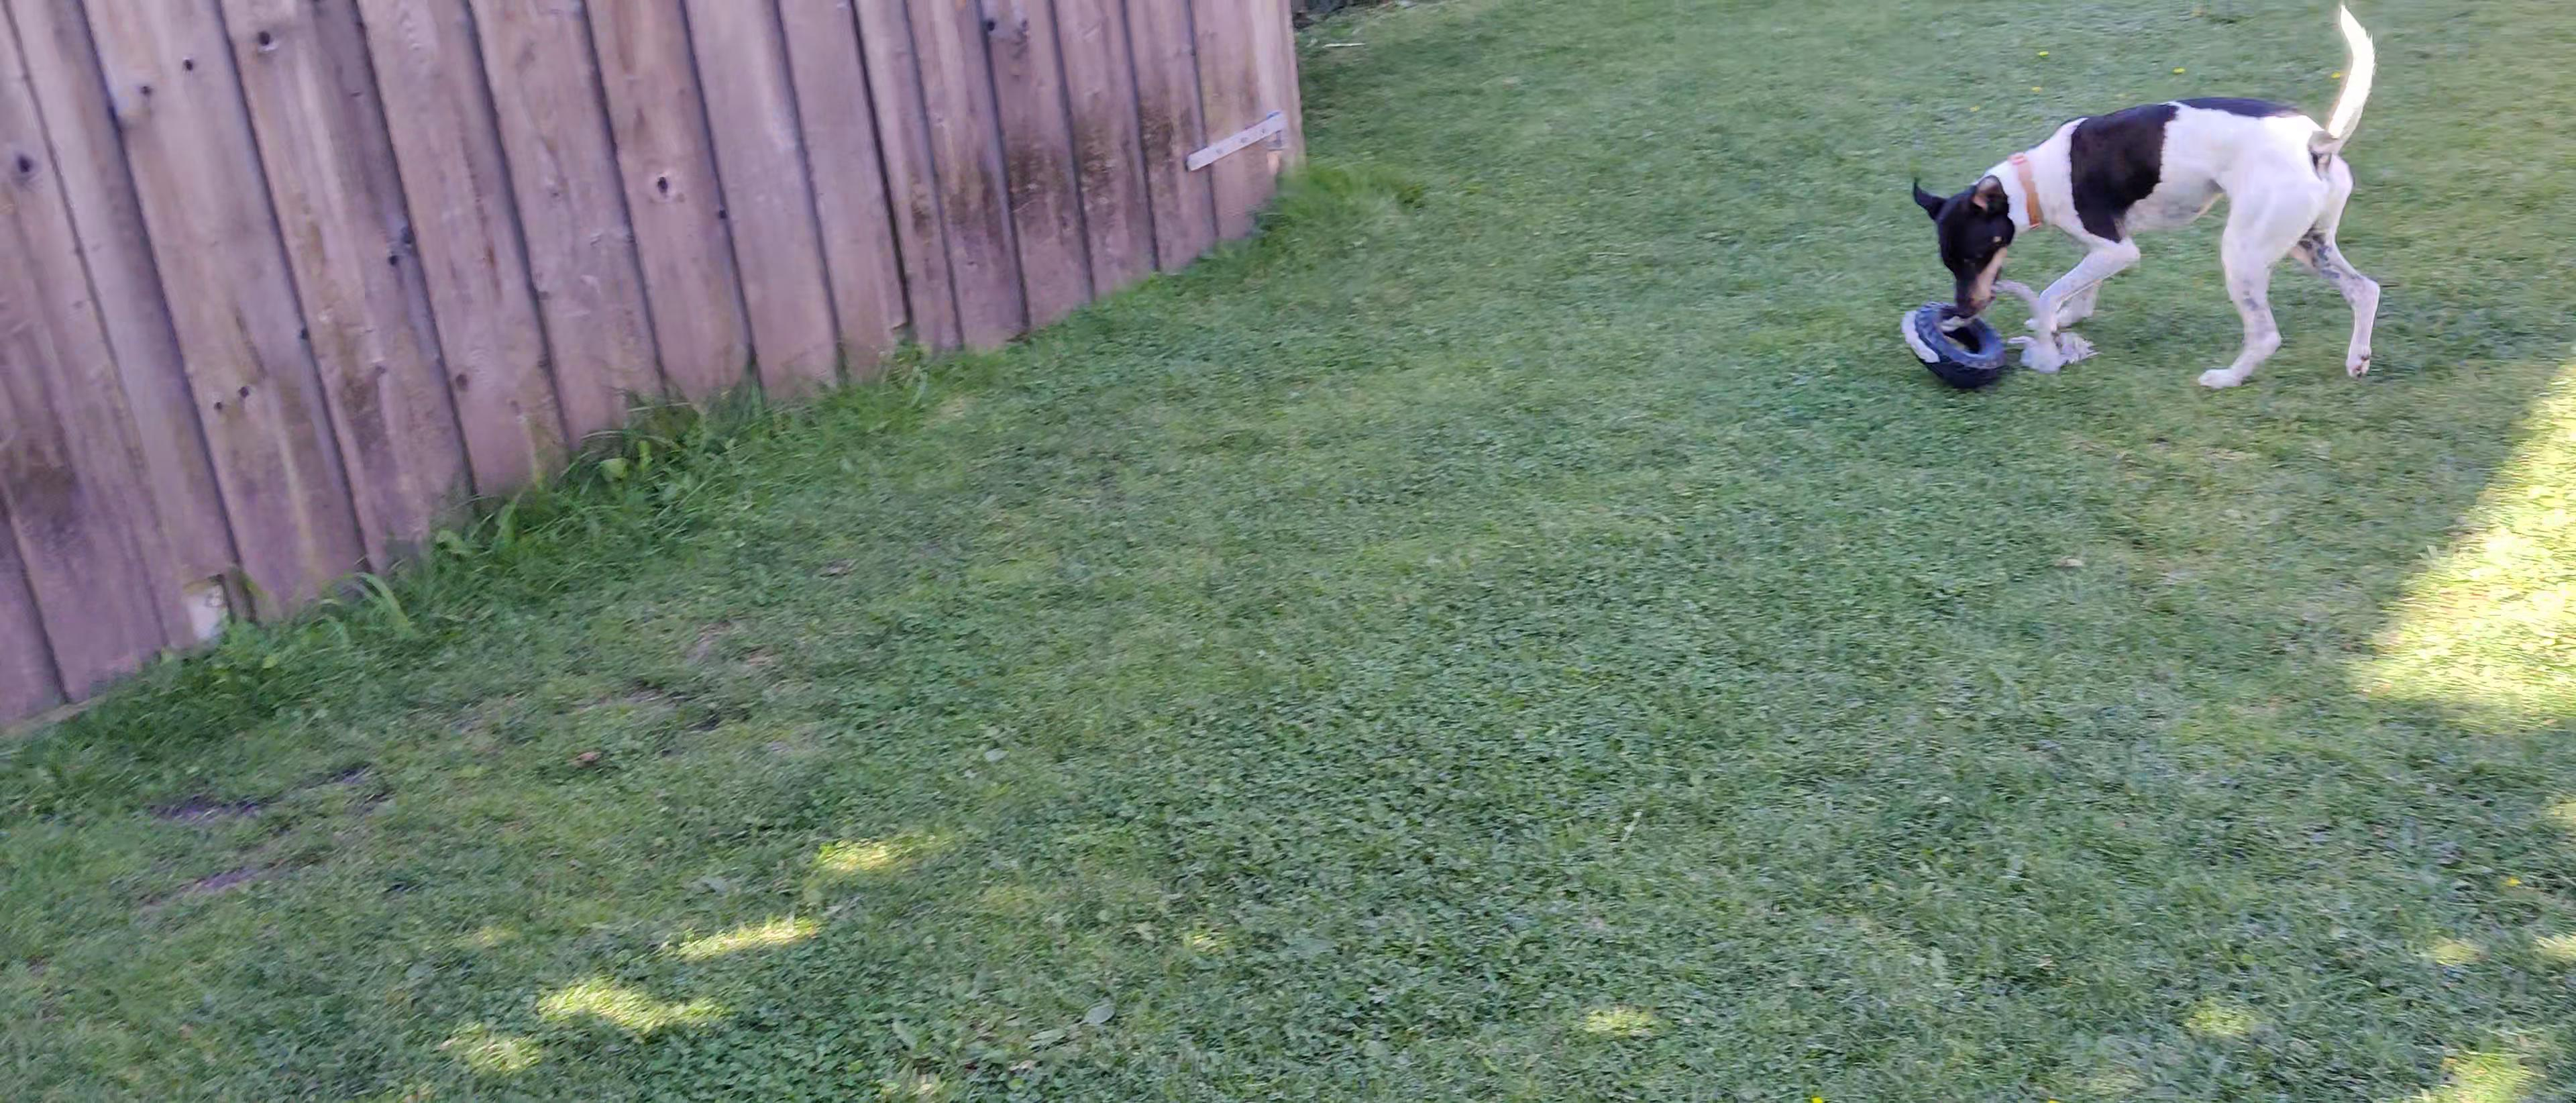Dog: (1897, 0, 2415, 399)
